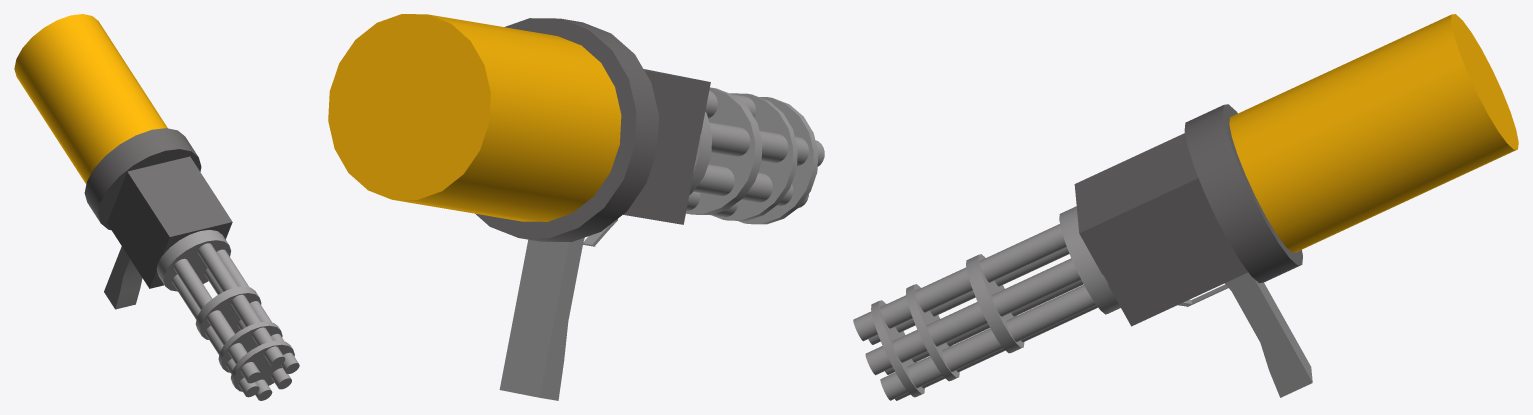
The model's file is lewgun.fbx.
3 renders of one model, left to right at view 1: azimuth 30°, elevation 25°; view 2: azimuth 150°, elevation 25°; view 3: azimuth 270°, elevation 25°, orthographic. The views are drawn at different scales.
Visible parts, largest first — view 1: WaterTank, mainbox, tankholder, topbarrel, leftbarrel, barrelcircle_back, handle, barrelcircle_middle, barrelcircle_front1, bottomleftbarrel, rightbarrel, barrelcircle_front2 (+1 smaller); view 2: WaterTank, tankholder, handle, mainbox, barrelcircle_middle, barrelcircle_front2, barrelcircle_front1, leftbarrel, bottomleftbarrel, barrelcircle_back, topbarrel; view 3: WaterTank, mainbox, tankholder, rightbarrel, bottomrightbarrel, topbarrel, handle, barrelcircle_back, barrelcircle_middle, barrelcircle_front1, barrelcircle_front2, leftbarrel (+2 smaller).
Part boxes in pixels (bbox=[...]): WaterTank: bbox=[14, 14, 167, 183]; mainbox: bbox=[107, 156, 232, 288]; tankholder: bbox=[84, 128, 201, 230]; topbarrel: bbox=[197, 243, 285, 367]; leftbarrel: bbox=[173, 258, 261, 383]; barrelcircle_back: bbox=[156, 230, 230, 291]; handle: bbox=[104, 246, 142, 309]; barrelcircle_middle: bbox=[195, 286, 261, 339]; barrelcircle_front1: bbox=[230, 340, 294, 391]; bottomleftbarrel: bbox=[172, 274, 259, 397]; rightbarrel: bbox=[216, 249, 299, 373]; barrelcircle_front2: bbox=[218, 321, 282, 372]; WaterTank: bbox=[328, 14, 621, 221]; tankholder: bbox=[475, 18, 658, 242]; handle: bbox=[499, 237, 584, 400]; mainbox: bbox=[623, 69, 710, 224]; barrelcircle_middle: bbox=[686, 87, 762, 214]; barrelcircle_front2: bbox=[712, 93, 797, 220]; barrelcircle_front1: bbox=[738, 97, 818, 224]; leftbarrel: bbox=[709, 122, 824, 166]; bottomleftbarrel: bbox=[693, 164, 808, 207]; barrelcircle_back: bbox=[689, 112, 712, 194]; topbarrel: bbox=[705, 91, 772, 118]; WaterTank: bbox=[1229, 14, 1518, 252]; mainbox: bbox=[1074, 133, 1247, 326]; tankholder: bbox=[1184, 104, 1302, 283]; rightbarrel: bbox=[865, 258, 1081, 375]; bottomrightbarrel: bbox=[880, 285, 1095, 400]; topbarrel: bbox=[853, 224, 1066, 341]; handle: bbox=[1225, 272, 1312, 397]; barrelcircle_back: bbox=[1059, 206, 1120, 314]; barrelcircle_middle: bbox=[966, 254, 1024, 353]; barrelcircle_front1: bbox=[871, 300, 924, 397]; barrelcircle_front2: bbox=[906, 284, 959, 381]; leftbarrel: bbox=[868, 247, 1069, 344].
Bounding box in the file's own units: 4.82 × 11.36 × 18.35.
